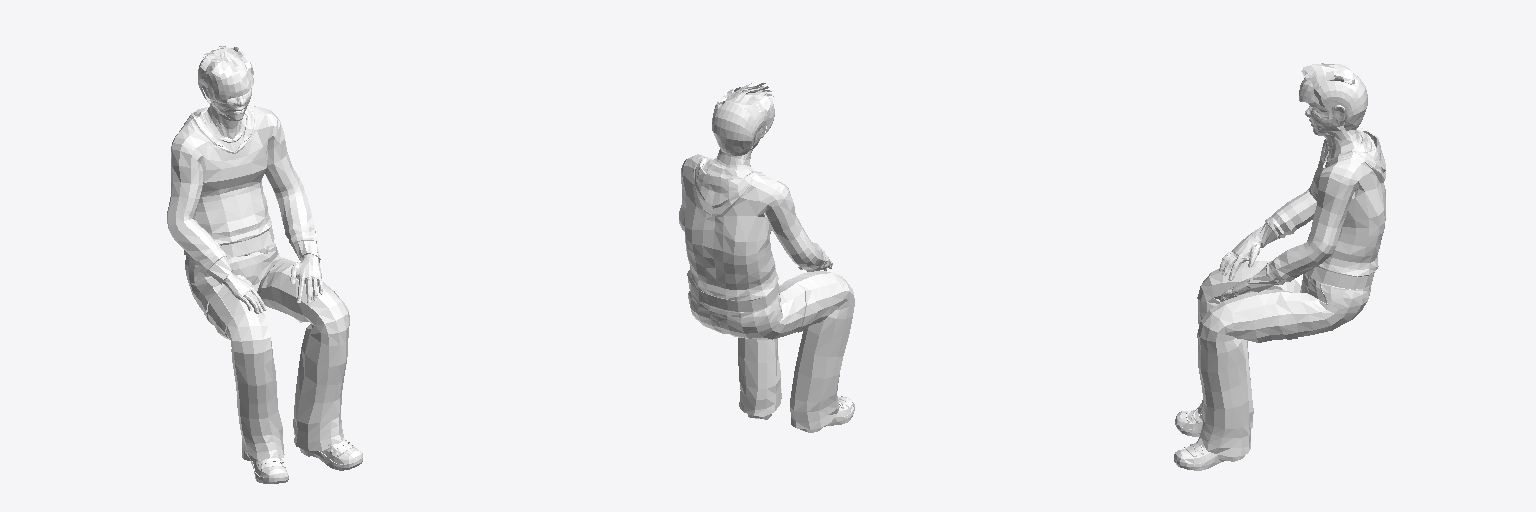
The model's file is boySitting.obj.
3 renders of one model, left to right at view 1: azimuth 30°, elevation 25°; view 2: azimuth 150°, elevation 25°; view 3: azimuth 270°, elevation 25°, orthographic.
Parts seen in each view (by area): view 1: 2, 7, 1, 9, 4, 8, 5; view 2: 7, 2, 1, 4; view 3: 2, 7, 1, 4, 9, 5, 8.
Part boxes in pixels (x1,y1,x2,y2): 2: (185, 242, 349, 460); 7: (167, 105, 320, 285); 1: (198, 46, 253, 103); 9: (225, 257, 322, 313); 4: (251, 438, 362, 483); 8: (203, 103, 318, 284); 5: (202, 85, 251, 120); 7: (679, 154, 829, 311); 2: (688, 268, 854, 429); 1: (712, 83, 774, 155); 4: (748, 389, 854, 432); 2: (1197, 261, 1370, 456); 7: (1249, 128, 1385, 292); 1: (1299, 63, 1367, 130); 4: (1174, 409, 1244, 470); 9: (1219, 235, 1259, 301); 5: (1305, 105, 1344, 138); 8: (1249, 129, 1361, 281).
Size of the model in its own units: 48.9 by 131 by 67.